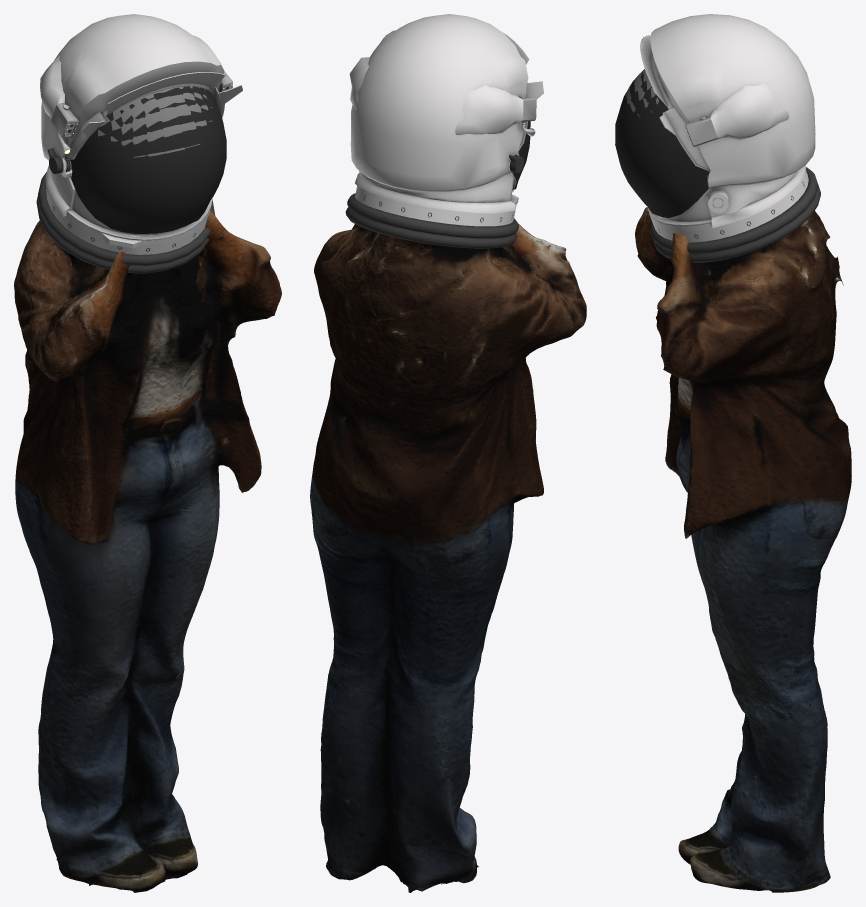
The model's file is Meeee4.glb.
The picture shows the model from 3 angles, left to right: view 1: azimuth 30°, elevation 25°; view 2: azimuth 150°, elevation 25°; view 3: azimuth 270°, elevation 25°; orthographic projection. The views are drawn at different scales.
Visible parts, largest first — view 1: Me3, Helmet-Body_Helmet-Body_0, Black-one_Standard_14_0, Helmet-Body_helmet_glass_0; view 2: Me3, Helmet-Body_Helmet-Body_0; view 3: Me3, Helmet-Body_Helmet-Body_0, Black-one_Standard_14_0, Helmet-Body_helmet_glass_0.
Boxes of the visible parts, <box> form: Me3: <box>14,210,281,892</box>; Helmet-Body_Helmet-Body_0: <box>36,14,242,273</box>; Black-one_Standard_14_0: <box>70,86,226,233</box>; Helmet-Body_helmet_glass_0: <box>71,86,212,235</box>; Me3: <box>310,209,586,892</box>; Helmet-Body_Helmet-Body_0: <box>345,14,543,248</box>; Me3: <box>635,172,851,892</box>; Helmet-Body_Helmet-Body_0: <box>640,14,820,262</box>; Black-one_Standard_14_0: <box>615,69,709,217</box>; Helmet-Body_helmet_glass_0: <box>619,69,709,219</box>.
Size of the model in its own units: 2.46 by 8.18 by 2.09.
Materials: 4 (2 with a texture image).
